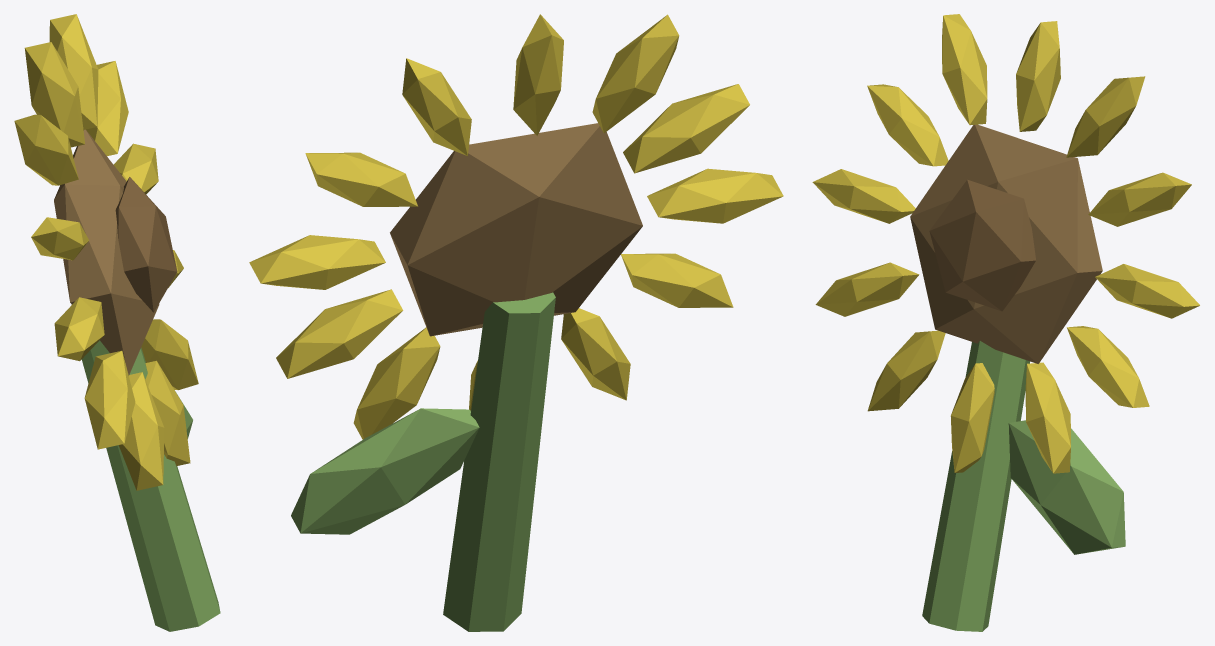
3 views of the same model, side by side, from view 1: azimuth 30°, elevation 25°; view 2: azimuth 150°, elevation 25°; view 3: azimuth 270°, elevation 25° (orthographic). The views are drawn at different scales.
Parts seen in each view (by area): view 1: part14, part0, part1, part5, part9, part10, part6, part4, part3, part12, part11, part8 (+2 smaller); view 2: part0, part14, part15, part13, part7, part8, part2, part6, part12, part9, part3, part5 (+2 smaller); view 3: part0, part14, part1, part15, part12, part6, part5, part13, part7, part11, part4, part10 (+4 smaller).
Boxes of the visible parts, <box> form: part14: <box>82,340,220,631</box>; part0: <box>54,129,159,375</box>; part1: <box>115,177,177,312</box>; part5: <box>24,42,84,147</box>; part9: <box>84,350,135,449</box>; part10: <box>118,372,164,490</box>; part6: <box>14,114,78,185</box>; part4: <box>49,14,98,129</box>; part3: <box>86,61,128,156</box>; part12: <box>141,319,198,390</box>; part11: <box>145,360,190,466</box>; part8: <box>54,297,104,361</box>; part0: <box>390,123,642,336</box>; part14: <box>443,292,555,631</box>; part15: <box>291,408,479,534</box>; part13: <box>276,289,403,378</box>; part7: <box>623,84,749,173</box>; part8: <box>647,168,783,223</box>; part2: <box>249,235,385,289</box>; part6: <box>592,14,679,133</box>; part12: <box>353,327,440,439</box>; part9: <box>621,253,733,307</box>; part3: <box>305,152,417,206</box>; part5: <box>513,14,563,135</box>; part0: <box>910,124,1102,363</box>; part14: <box>922,341,1029,631</box>; part1: <box>929,179,1035,311</box>; part15: <box>1008,420,1125,554</box>; part12: <box>1025,362,1070,473</box>; part6: <box>942,14,987,125</box>; part5: <box>1016,21,1060,131</box>; part13: <box>1067,326,1149,407</box>; part7: <box>867,84,948,166</box>; part11: <box>950,363,994,472</box>; part4: <box>1066,76,1145,157</box>; part10: <box>867,330,945,411</box>.
Bounding box in the file's own units: 4.09 × 7.97 × 4.98.
